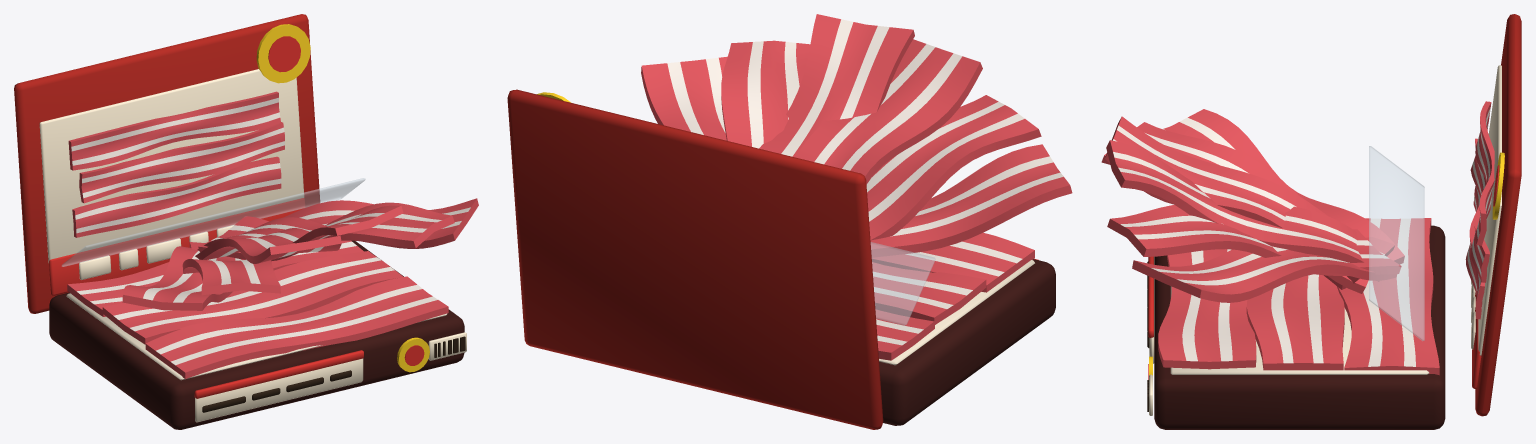
The model's file is dispenser_bacon.glb.
3 views of the same model, side by side, from view 1: azimuth 30°, elevation 25°; view 2: azimuth 150°, elevation 25°; view 3: azimuth 270°, elevation 25° (orthographic). The views are drawn at different scales.
Parts seen in each view (by area): view 1: DispenserBacon; view 2: DispenserBacon; view 3: DispenserBacon.
Boxes of the visible parts, x1=… form: DispenserBacon: x1=14, y1=14, x2=478, y2=429; DispenserBacon: x1=507, y1=14, x2=1072, y2=429; DispenserBacon: x1=1101, y1=14, x2=1521, y2=429.
Bounding box in the file's own units: 5.7 × 3.58 × 5.2.
